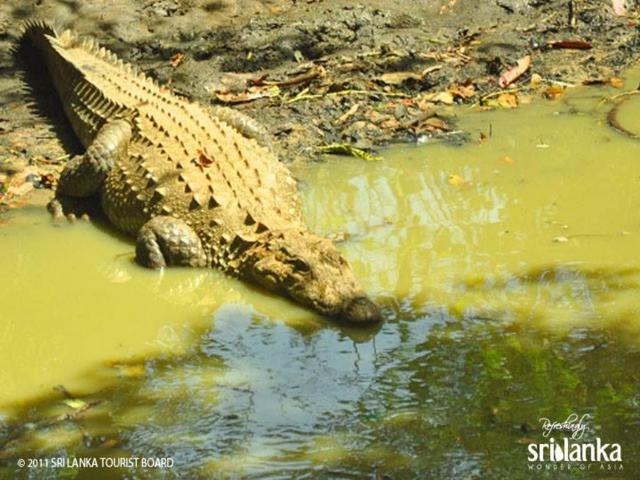crocodile: (12, 7, 462, 367)
